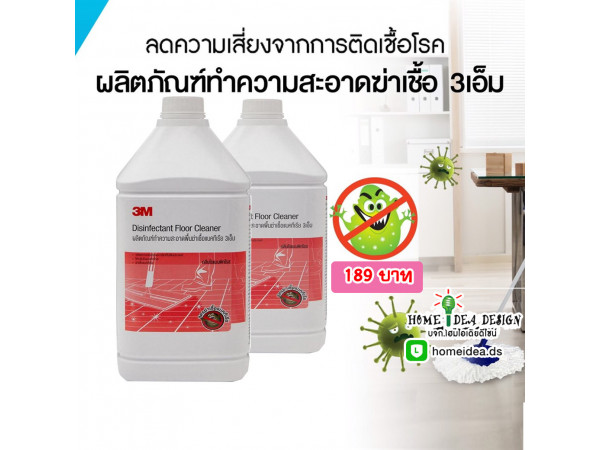Cleaning_solution: (110, 90, 255, 391)
